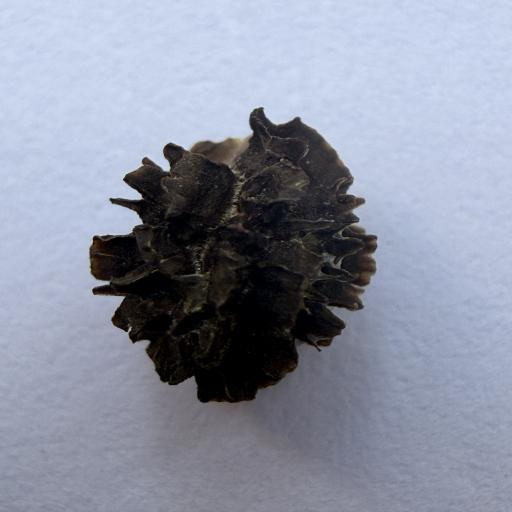papaya_seed: (71, 99, 401, 410)
